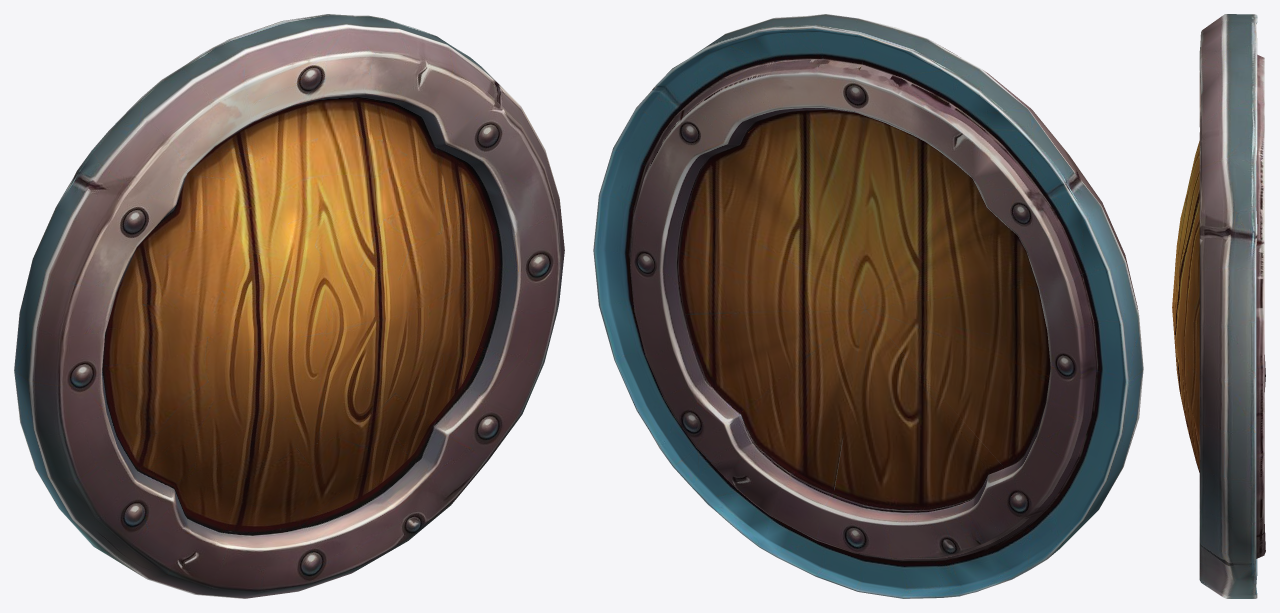
File: shield_animation-ld.glb
3 views of the same model, side by side, from view 1: azimuth 30°, elevation 25°; view 2: azimuth 150°, elevation 25°; view 3: azimuth 270°, elevation 25° (orthographic). The views are drawn at different scales.
Bounding box in the file's own units: 1.91 × 1.9 × 0.3053.
Materials: 1 (1 with a texture image).
